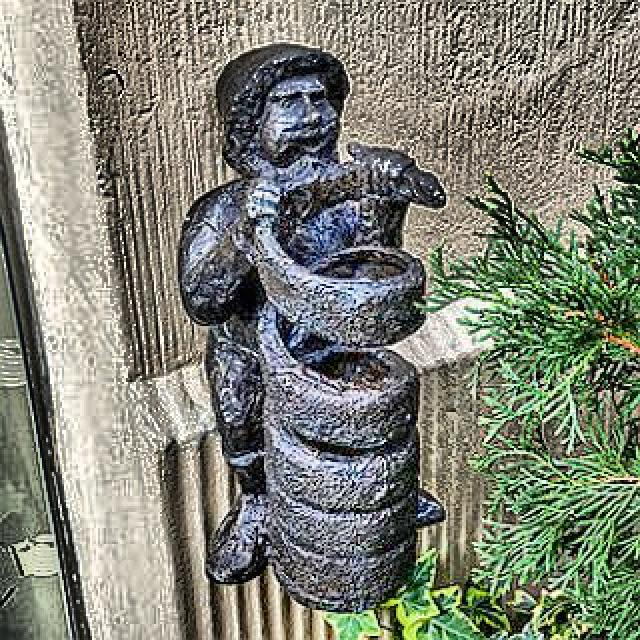Czimnejek: (180, 32, 458, 616)
